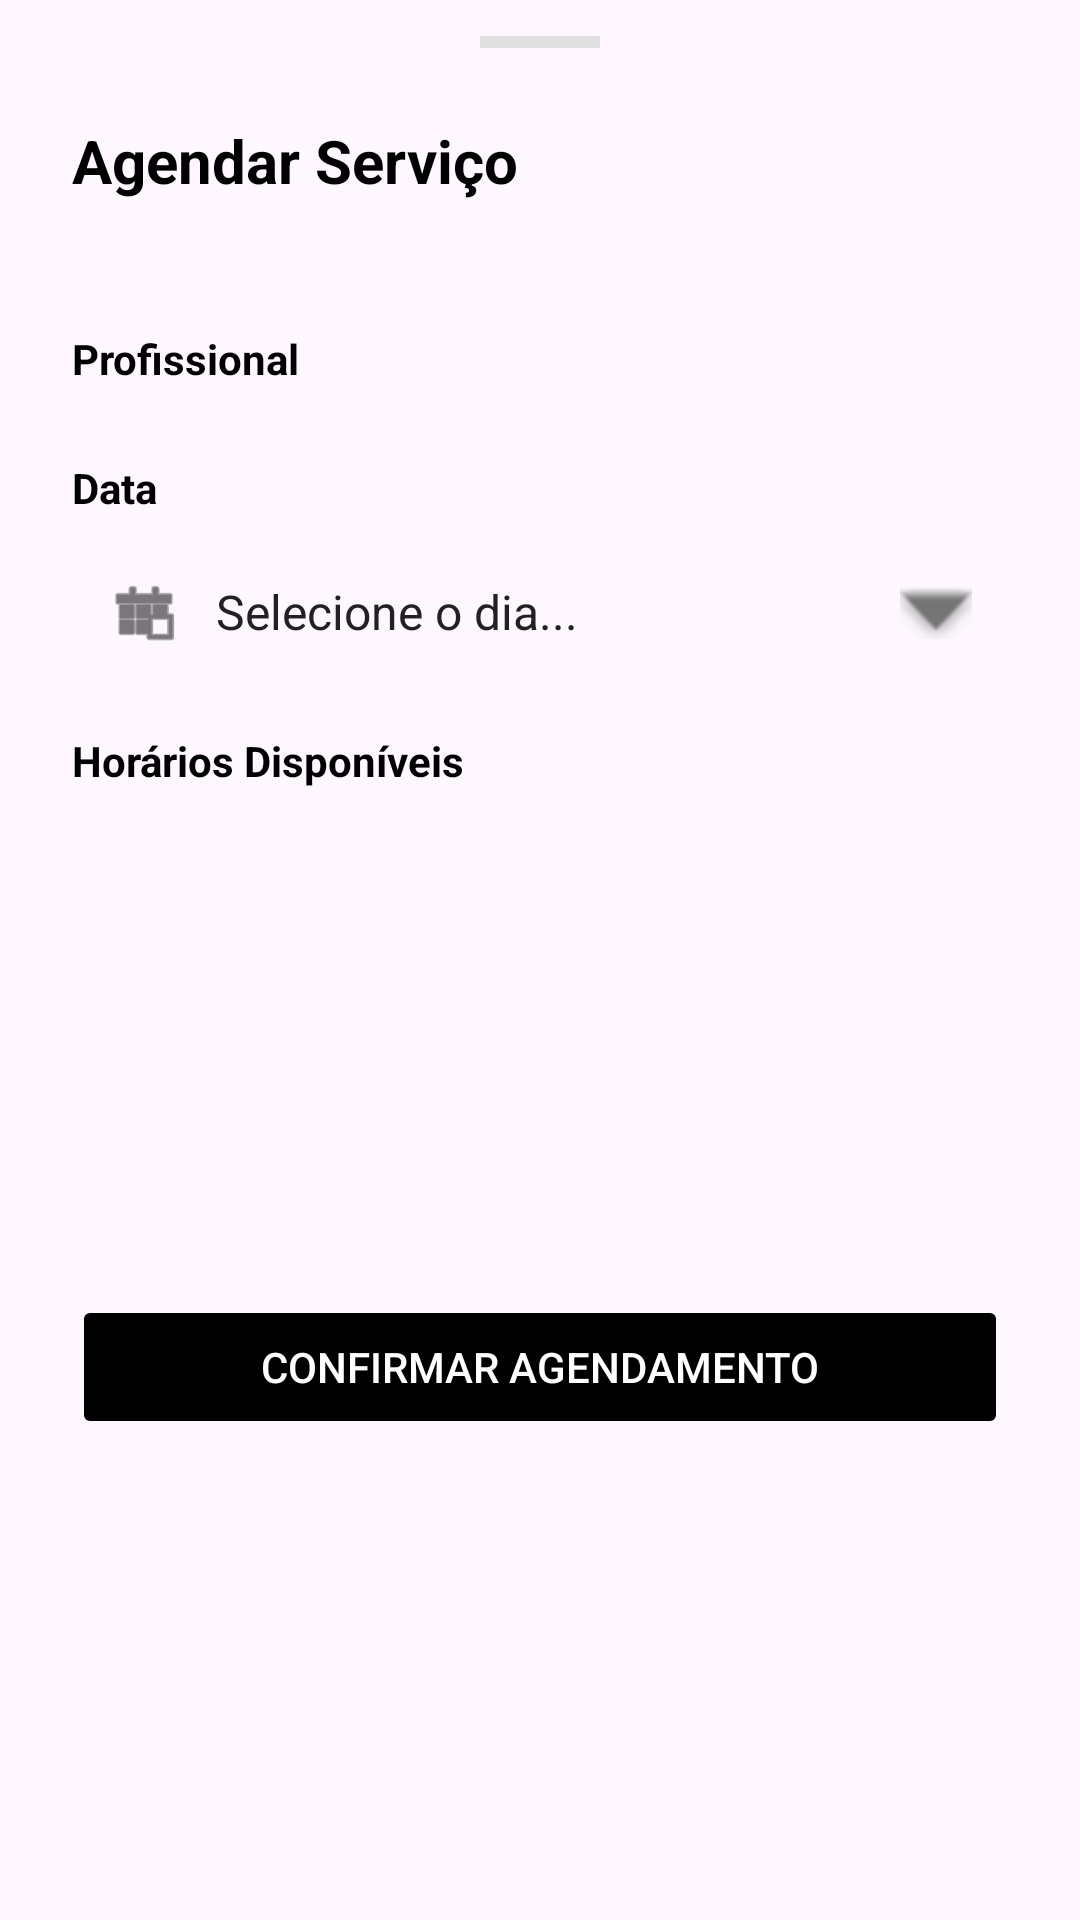

Point at icon controls on the screen. Image size 1080*1920, points as [x,y].
arrow down float: [936,611]
today: [144,613]
